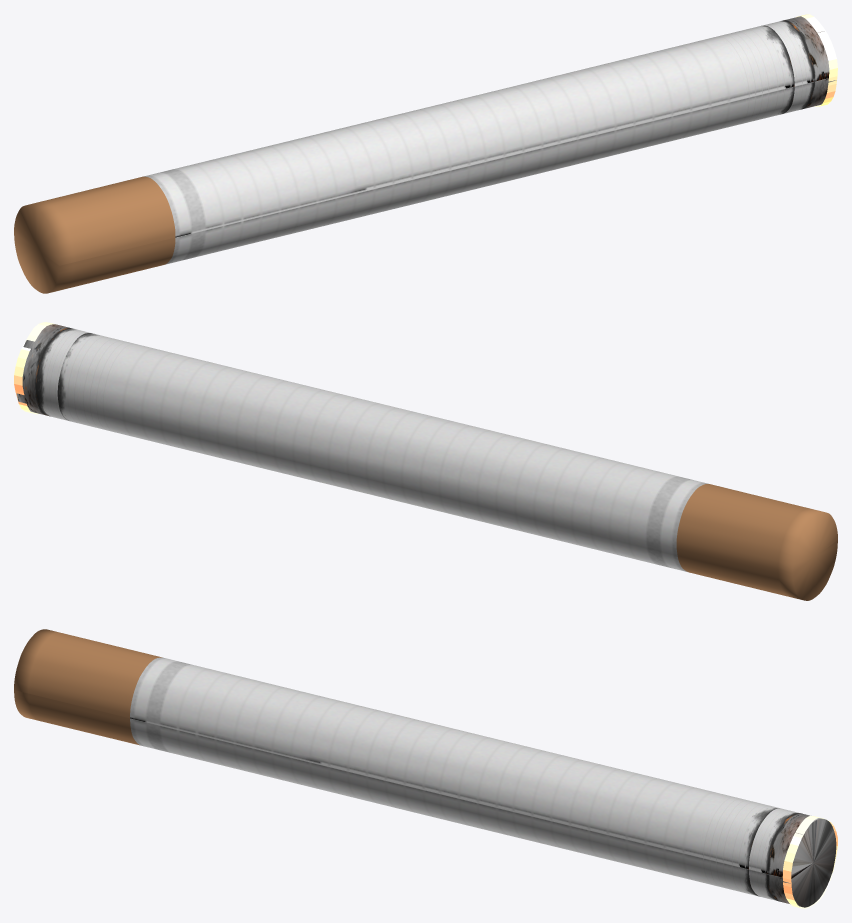
File: ashme-intro-v3.glb
3 views of the same model, one above another, from view 1: azimuth 30°, elevation 25°; view 2: azimuth 150°, elevation 25°; view 3: azimuth 330°, elevation 25° (orthographic).
Parts seen in each view (by area): view 1: Cigarette | paper + filter, Ember | irregular hot seam; view 2: Cigarette | paper + filter, Ember | irregular hot seam; view 3: Cigarette | paper + filter, Ember | irregular hot seam.
Boxes of the visible parts, x1,y1,x2,y2 form: Cigarette | paper + filter: (14, 16, 836, 293); Ember | irregular hot seam: (796, 14, 837, 106); Cigarette | paper + filter: (16, 324, 837, 600); Ember | irregular hot seam: (14, 322, 54, 414); Cigarette | paper + filter: (14, 629, 836, 907); Ember | irregular hot seam: (782, 815, 837, 908).
Size of the model in its own units: 4.63 by 0.477 by 0.4781.
8 materials, 3 textured.
